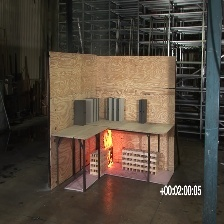fire: (102, 127, 114, 166)
